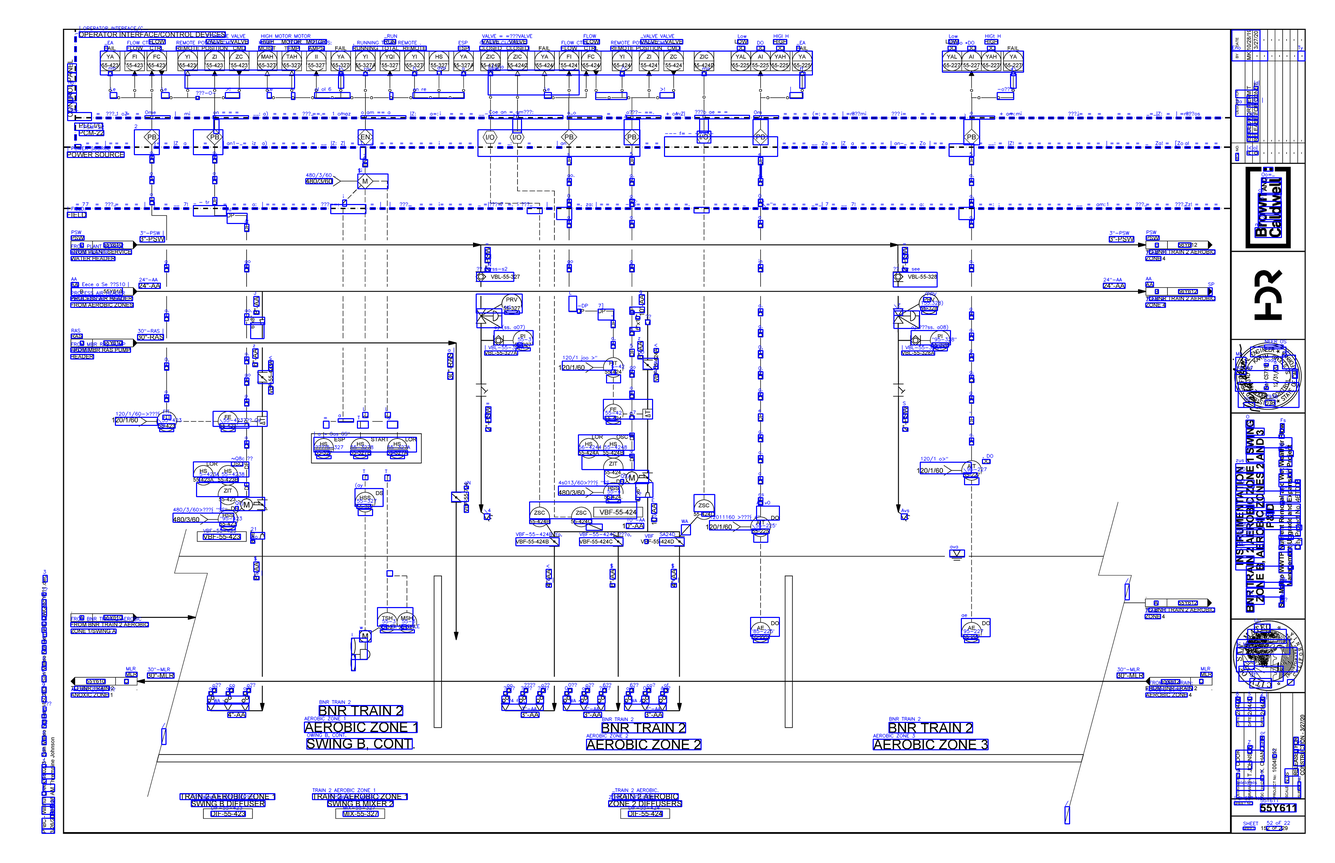Compressor: (356, 172, 373, 190), (258, 533, 266, 541), (644, 318, 652, 326), (643, 491, 651, 499)
Instrumento: (349, 437, 373, 460), (216, 410, 239, 433), (313, 437, 335, 460), (386, 437, 408, 460), (602, 402, 624, 425), (577, 437, 599, 459), (192, 465, 215, 486), (603, 437, 625, 458), (217, 465, 239, 485)
Motor: (358, 629, 372, 643), (625, 471, 639, 485), (240, 498, 253, 511), (258, 317, 267, 327)
Outro: (601, 356, 625, 379), (749, 621, 772, 644), (749, 516, 772, 538), (177, 50, 199, 72), (379, 50, 401, 72), (452, 50, 474, 72), (480, 50, 502, 72), (558, 50, 580, 72), (611, 50, 633, 72), (663, 50, 685, 72), (693, 51, 715, 73), (156, 410, 178, 432), (376, 612, 398, 634), (528, 506, 550, 528), (570, 506, 592, 528), (961, 459, 983, 481), (960, 621, 982, 643), (533, 50, 556, 71), (580, 50, 603, 71), (216, 509, 239, 530), (602, 482, 625, 503), (693, 499, 716, 520), (204, 50, 225, 72), (256, 51, 278, 72), (281, 51, 303, 72), (330, 50, 351, 72), (355, 50, 376, 72), (429, 50, 450, 72), (507, 50, 528, 72), (638, 51, 660, 72), (792, 50, 813, 72), (354, 492, 376, 513), (397, 611, 418, 633), (217, 485, 240, 505), (100, 50, 121, 71), (124, 51, 145, 72), (146, 50, 167, 71), (229, 50, 250, 71), (306, 50, 327, 71), (404, 51, 425, 72), (941, 51, 962, 72), (1003, 50, 1024, 71), (602, 459, 625, 478), (730, 51, 751, 71), (771, 51, 791, 72), (962, 51, 982, 71), (981, 51, 1001, 71), (752, 51, 770, 71), (256, 416, 268, 428), (642, 408, 653, 420)
Ventilador: (349, 637, 371, 673)
Válvula: (891, 306, 918, 326), (475, 307, 499, 325), (474, 381, 489, 399), (891, 381, 906, 398), (891, 269, 905, 284), (474, 270, 488, 284), (640, 471, 655, 484), (909, 333, 922, 348), (255, 370, 268, 384), (492, 334, 506, 347), (548, 534, 562, 547), (611, 535, 625, 548), (673, 535, 686, 548), (641, 358, 653, 372), (256, 499, 269, 511), (449, 492, 462, 504)
